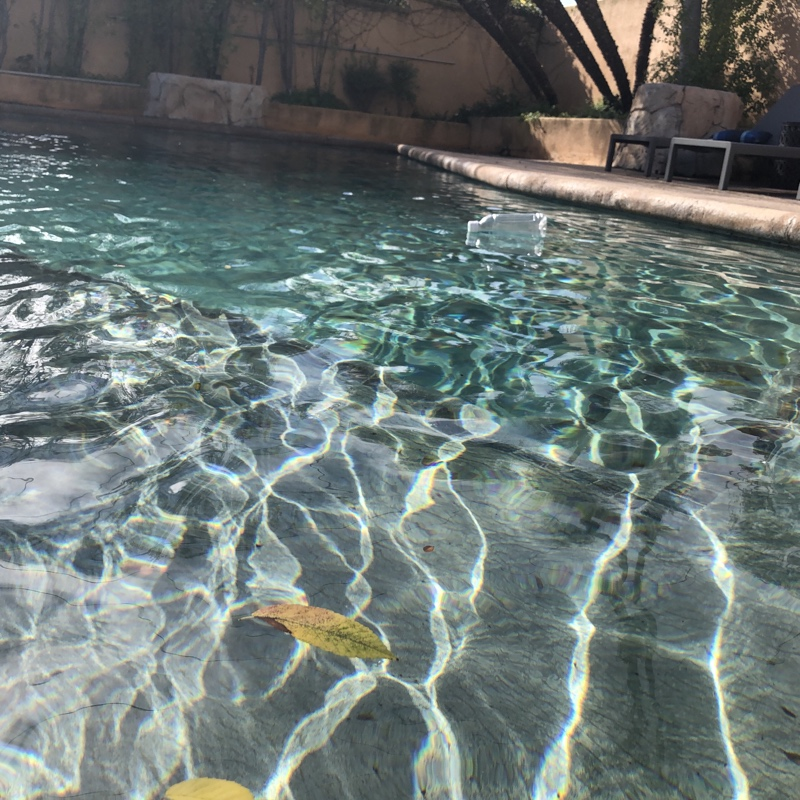Plastic Bottle: (465, 206, 549, 242)
